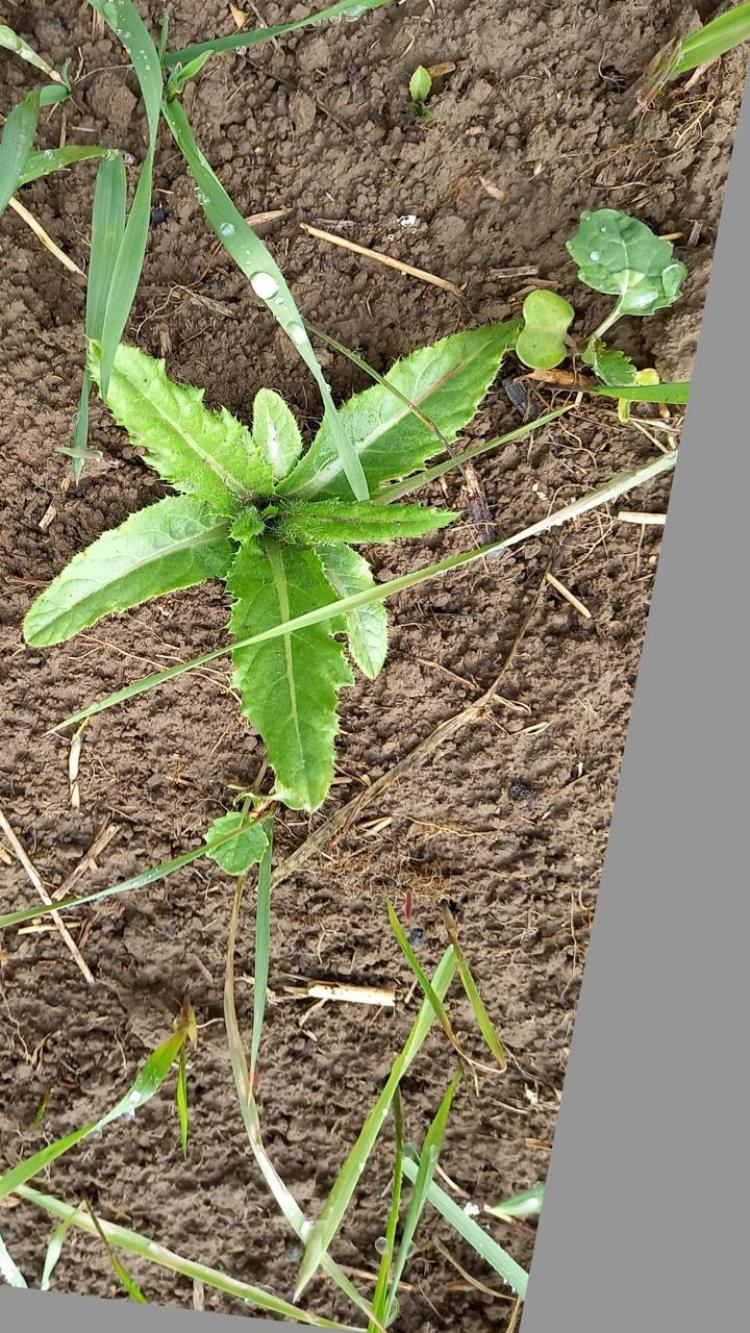bodyak: (23, 316, 529, 814)
